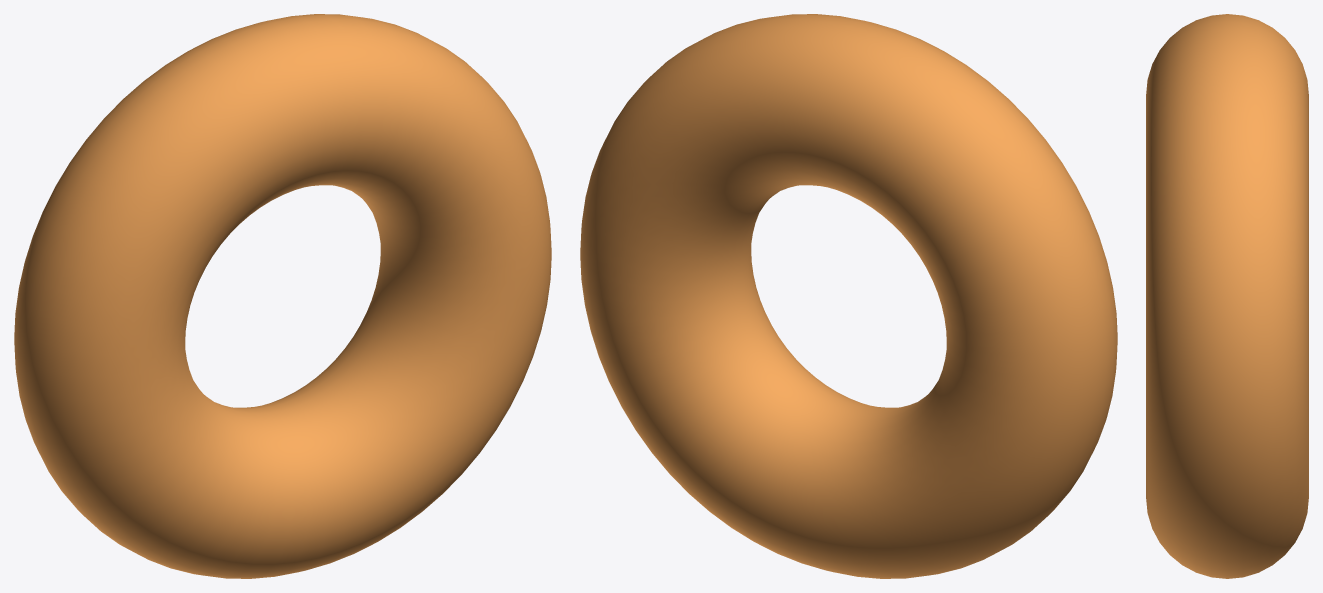
File: donut.glb
3 views of the same model, side by side, from view 1: azimuth 30°, elevation 25°; view 2: azimuth 150°, elevation 25°; view 3: azimuth 270°, elevation 25° (orthographic). The views are drawn at different scales.
Visible parts, largest first — view 1: torus; view 2: torus; view 3: torus.
Part boxes in pixels (<box>): torus: <box>14,14,551,578</box>; torus: <box>580,14,1117,578</box>; torus: <box>1146,14,1308,578</box>.
Size of the model in its own units: 1.18 by 1.18 by 0.34.
